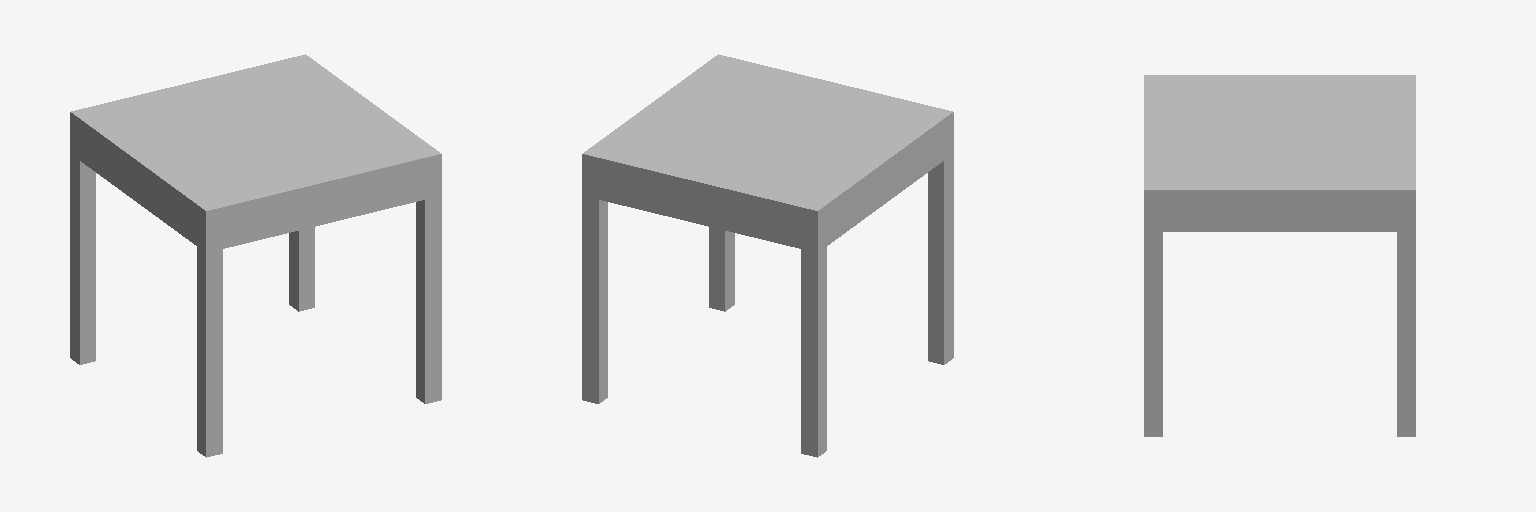
Rendered from wall-b-open.obj.
The picture shows the model from 3 angles: view 1: azimuth 30°, elevation 25°; view 2: azimuth 150°, elevation 25°; view 3: azimuth 270°, elevation 25°; orthographic projection.
Parts seen in each view (by area): view 1: wall-b-open; view 2: wall-b-open; view 3: wall-b-open.
Part boxes in pixels (x1,y1,x2,y2): wall-b-open: (70, 54, 441, 457); wall-b-open: (582, 54, 953, 457); wall-b-open: (1144, 75, 1415, 436).
Bounding box in the file's own units: 1 × 1 × 1.